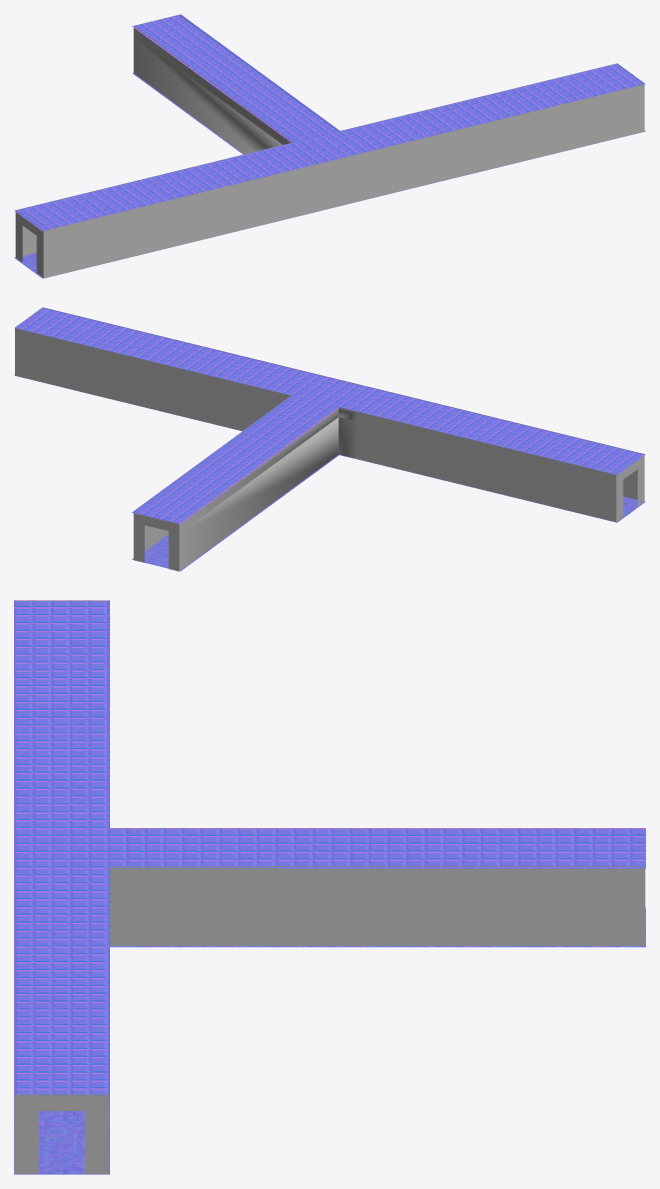
File: basic_T.fbx
3 renders of one model, top to bottom at view 1: azimuth 30°, elevation 25°; view 2: azimuth 150°, elevation 25°; view 3: azimuth 270°, elevation 25°, orthographic. The views are drawn at different scales.
Visible parts, largest first — view 1: cross; view 2: cross; view 3: cross.
Boxes of the visible parts, box(x1,y1,x2,y2) form: cross: box(14, 14, 645, 278); cross: box(14, 307, 645, 571); cross: box(14, 600, 645, 1174).
Size of the model in its own units: 3998 by 304 by 2157.
